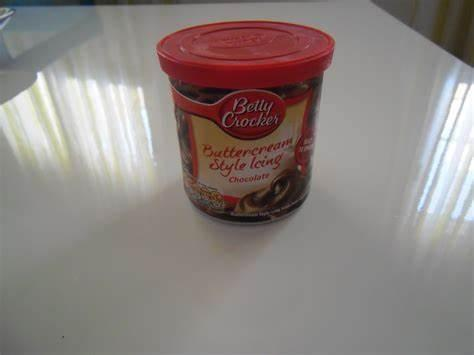metal: (156, 20, 336, 223)
